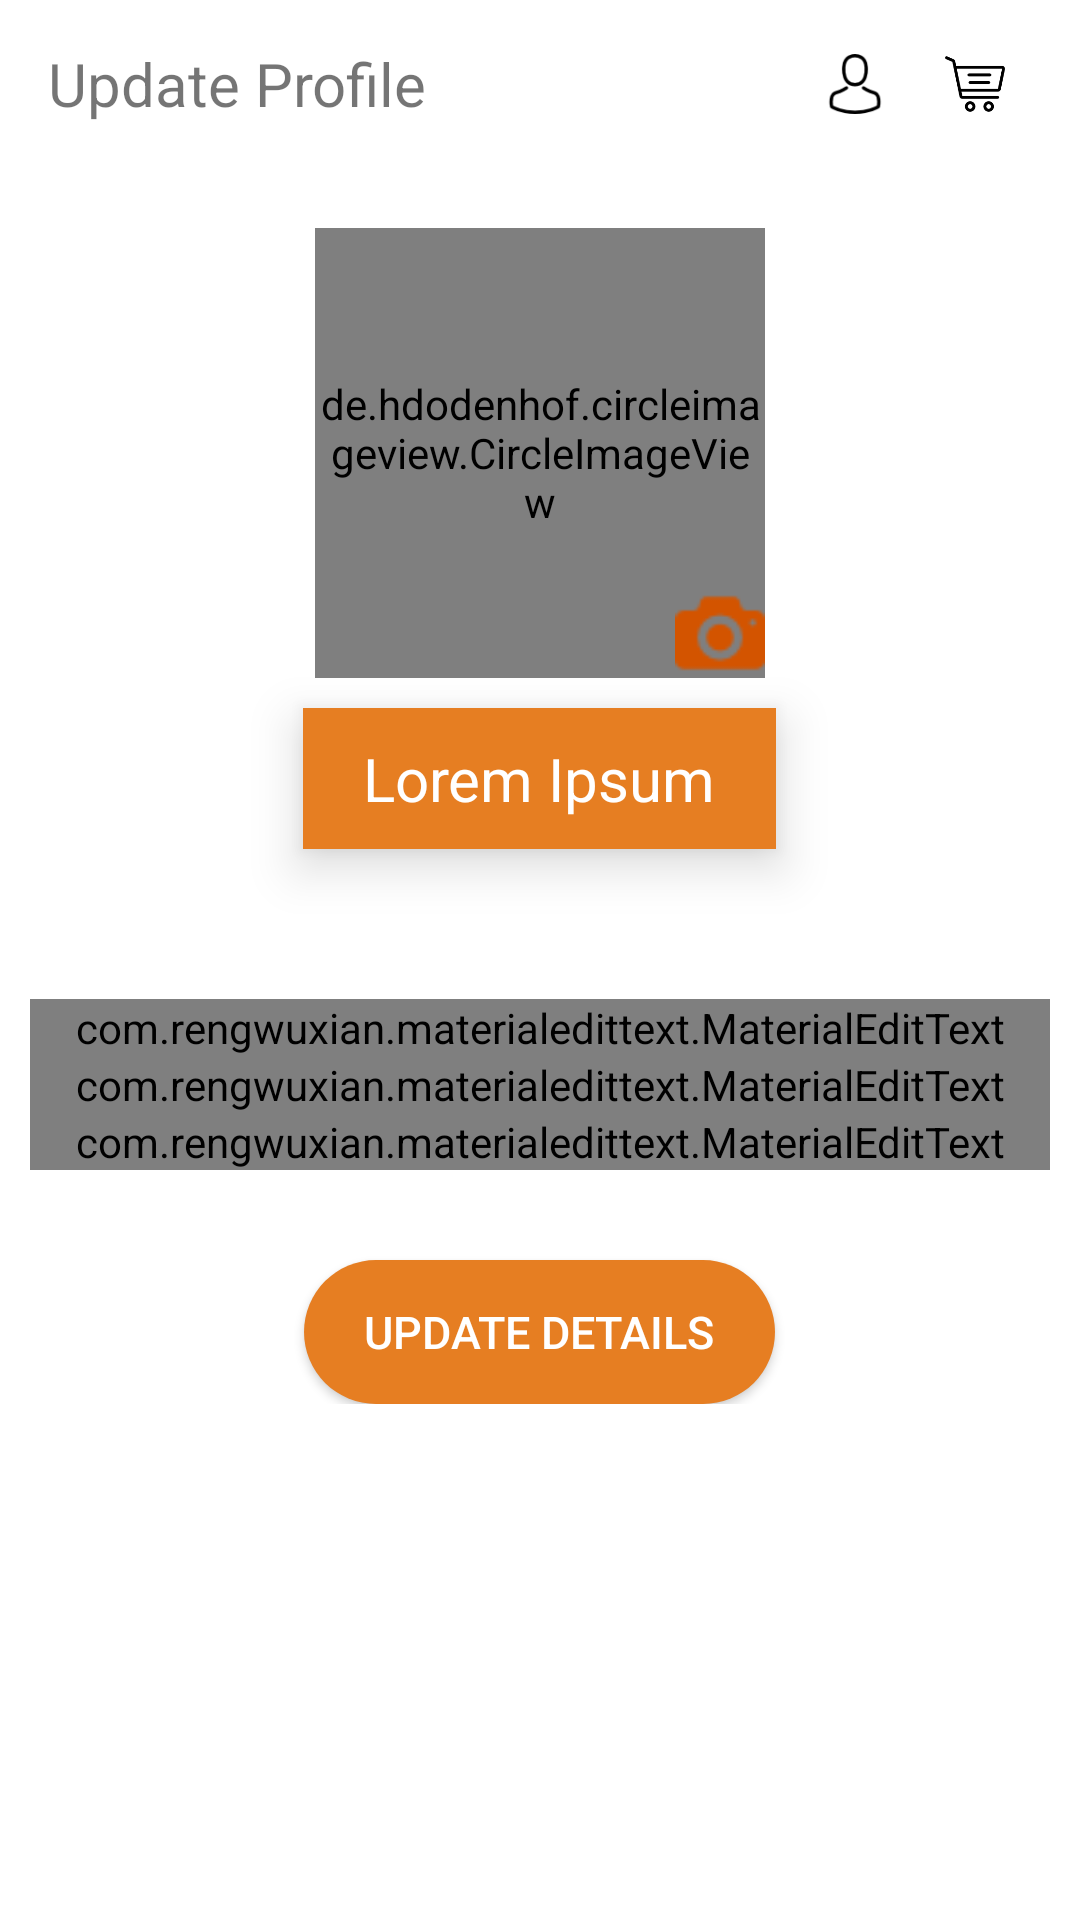

Named icons in this screenshot (1080x1920) and their centers, point (x, y):
cart: point (975, 84)
profile: point (855, 84)
uploadpicdark: point (720, 633)
